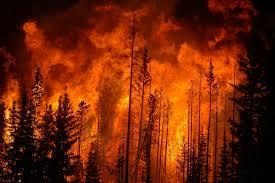fire: (4, 17, 263, 173)
